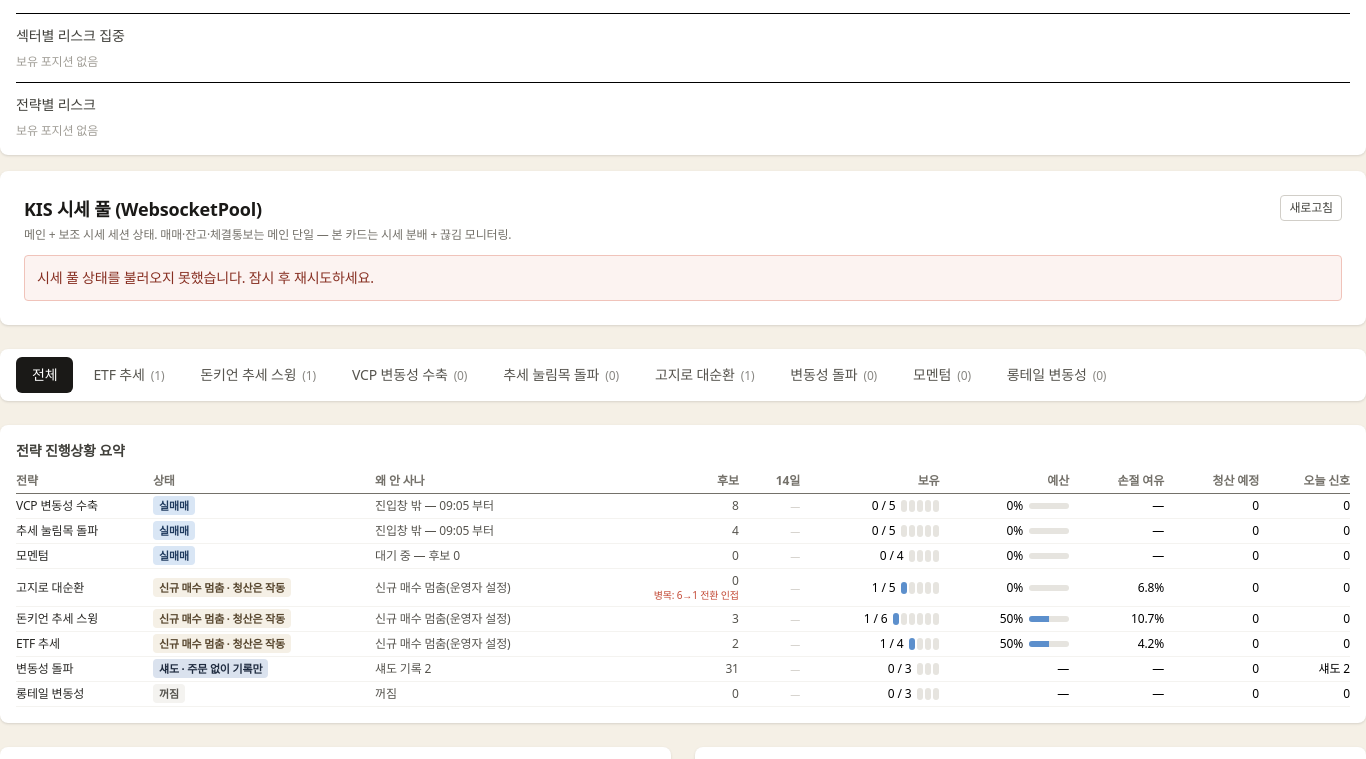
Dashboard — 전략 진행상황(cycle414) › 고지로 탭 → KojiroMonitor 가 페이지에 한 번만
(page scrolled)
Click the button "고지로 대순환(1)": (705, 375) 639,357 -> 770,393
(page scrolled)
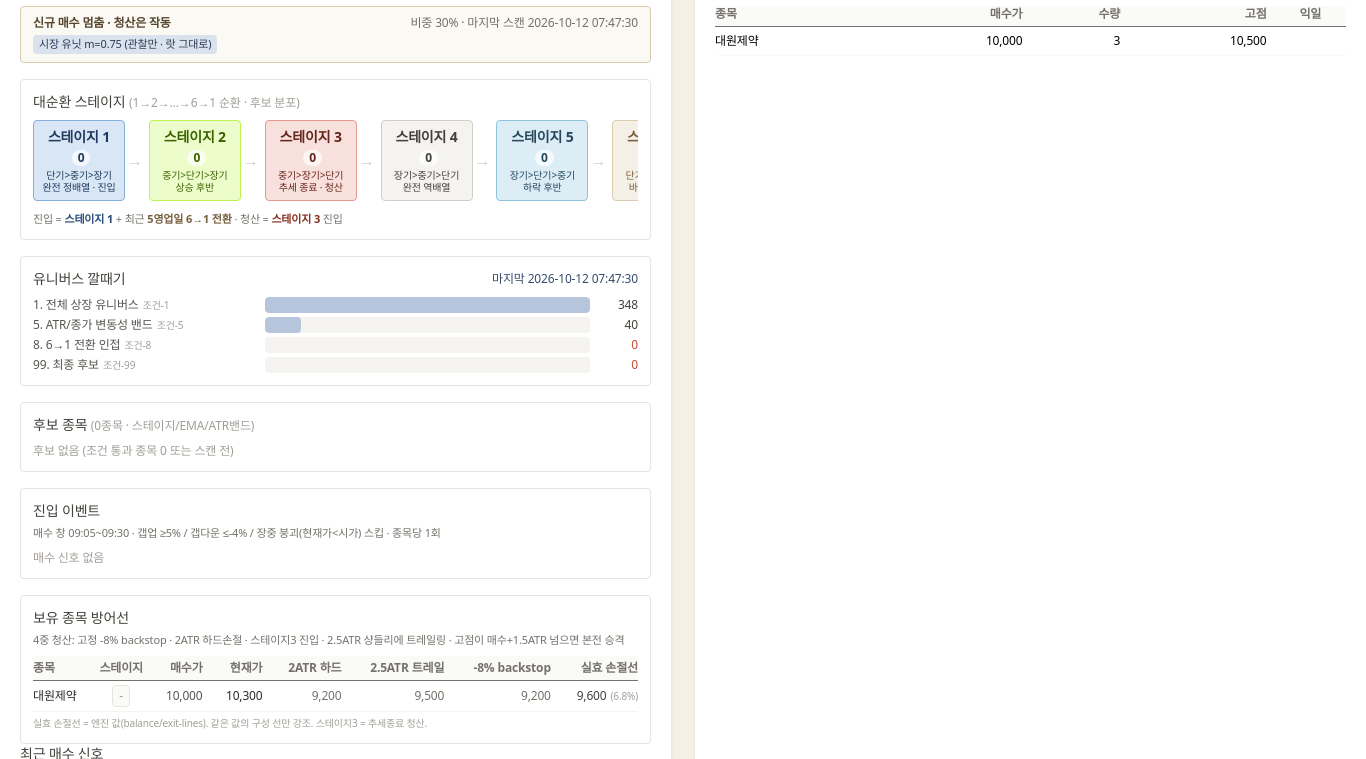
Now the number of elements with test id "kojiro-monitor" is 1, box 20,6 -> 651,744
